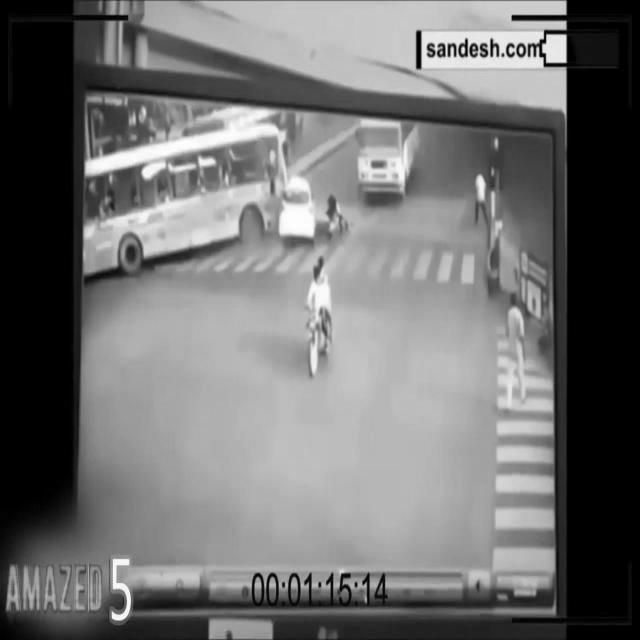accident: (80, 115, 317, 286)
vehicle: (357, 116, 418, 204), (306, 255, 334, 381)
